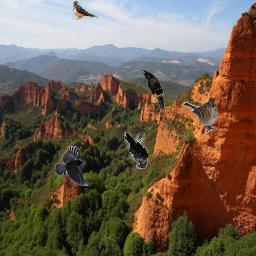Crow: (55, 146, 92, 186), (142, 69, 165, 109), (124, 132, 148, 169)
Sparrow: (183, 96, 218, 136)
Swallow: (73, 1, 98, 20)
